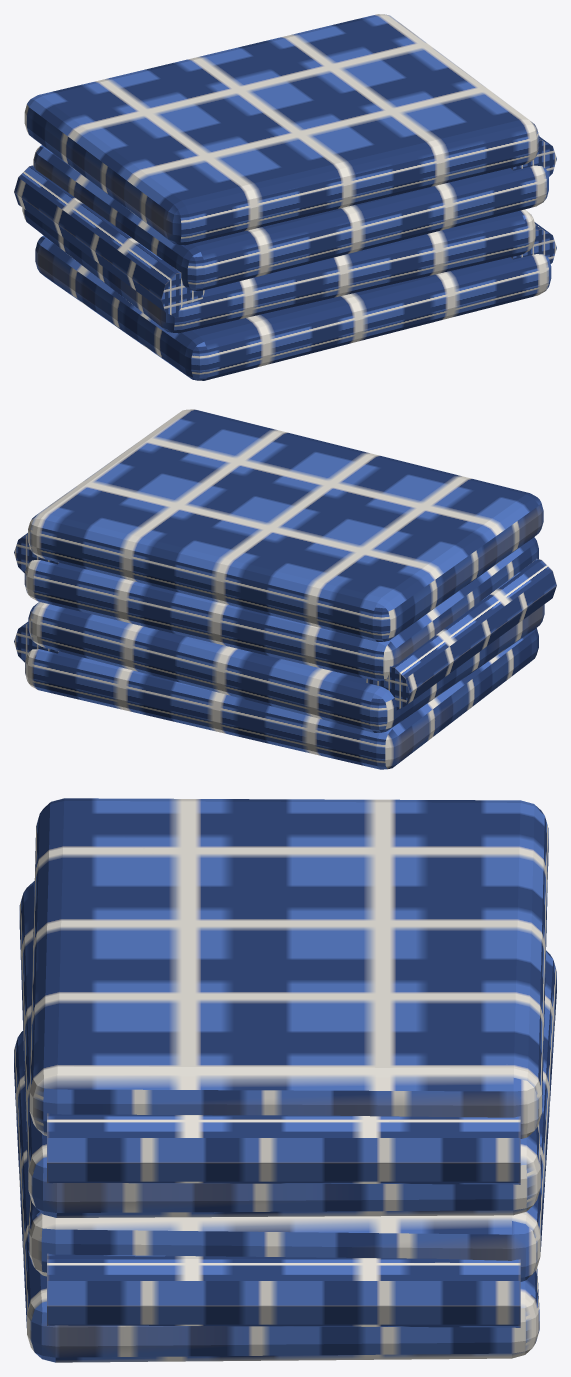
File: Cobertor.fbx
3 views of the same model, one above another, from view 1: azimuth 30°, elevation 25°; view 2: azimuth 150°, elevation 25°; view 3: azimuth 270°, elevation 25° (orthographic). The views are drawn at different scales.
Visible parts, largest first — view 1: Cobertor; view 2: Cobertor; view 3: Cobertor.
Boxes of the visible parts, box(x1,y1,x2,y2) form: Cobertor: box(14, 14, 556, 380); Cobertor: box(14, 409, 556, 769); Cobertor: box(14, 798, 556, 1362).
Bounding box in the file's own units: 0.4188 × 0.179 × 0.3094.
1 material, 1 textured.
